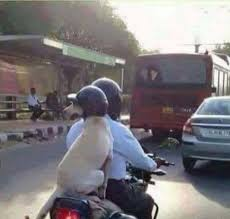helmet: (77, 76, 130, 121)
